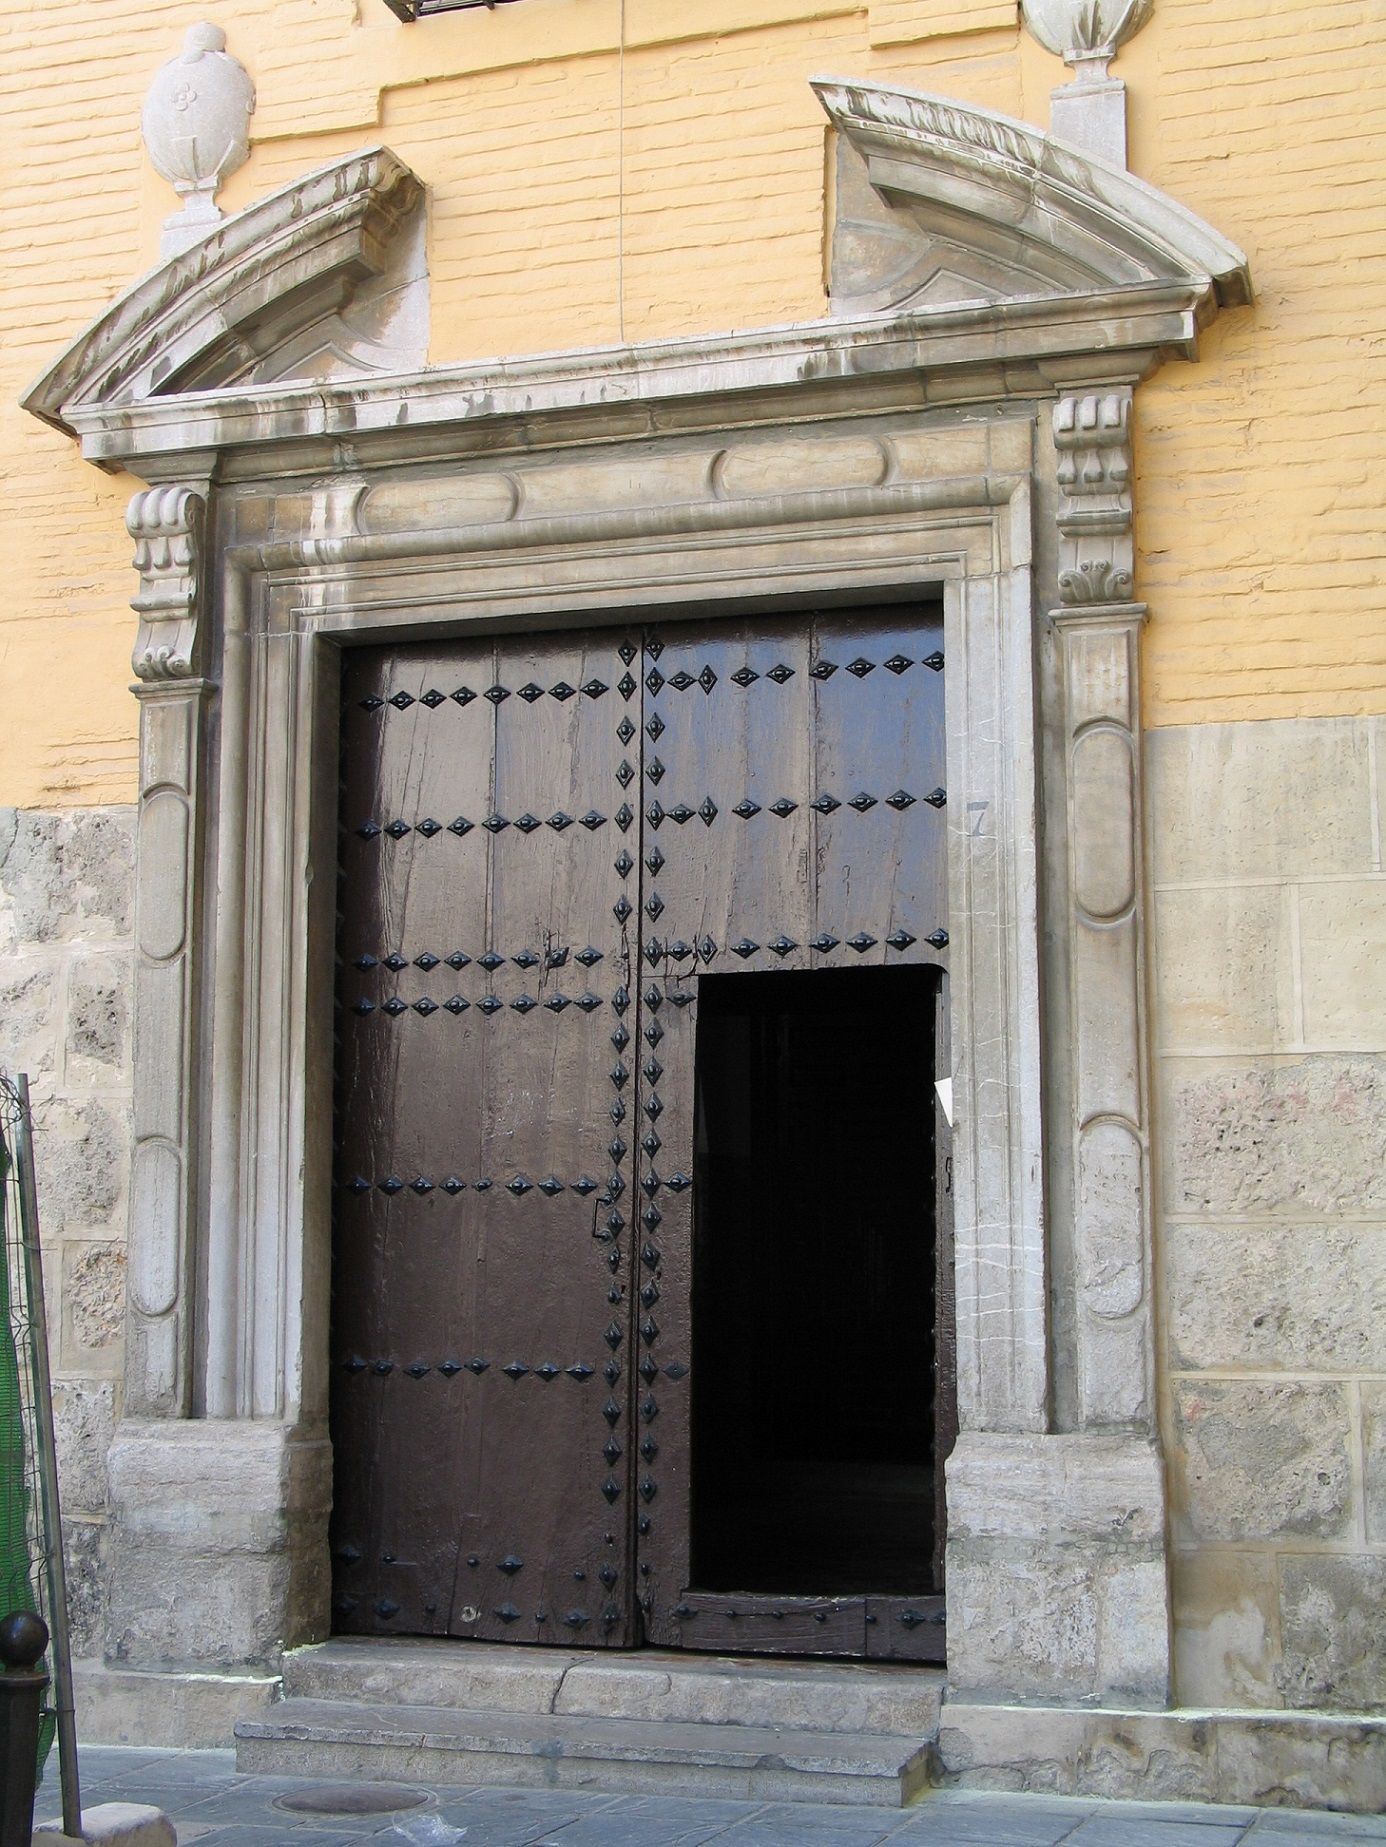fronton-partido: (20, 61, 1239, 477)
vano-adintelado: (214, 448, 1056, 1716)
